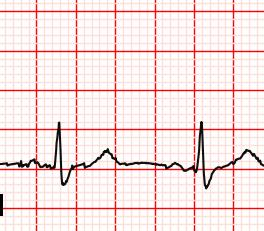ST Depression: (42, 158, 78, 189)
